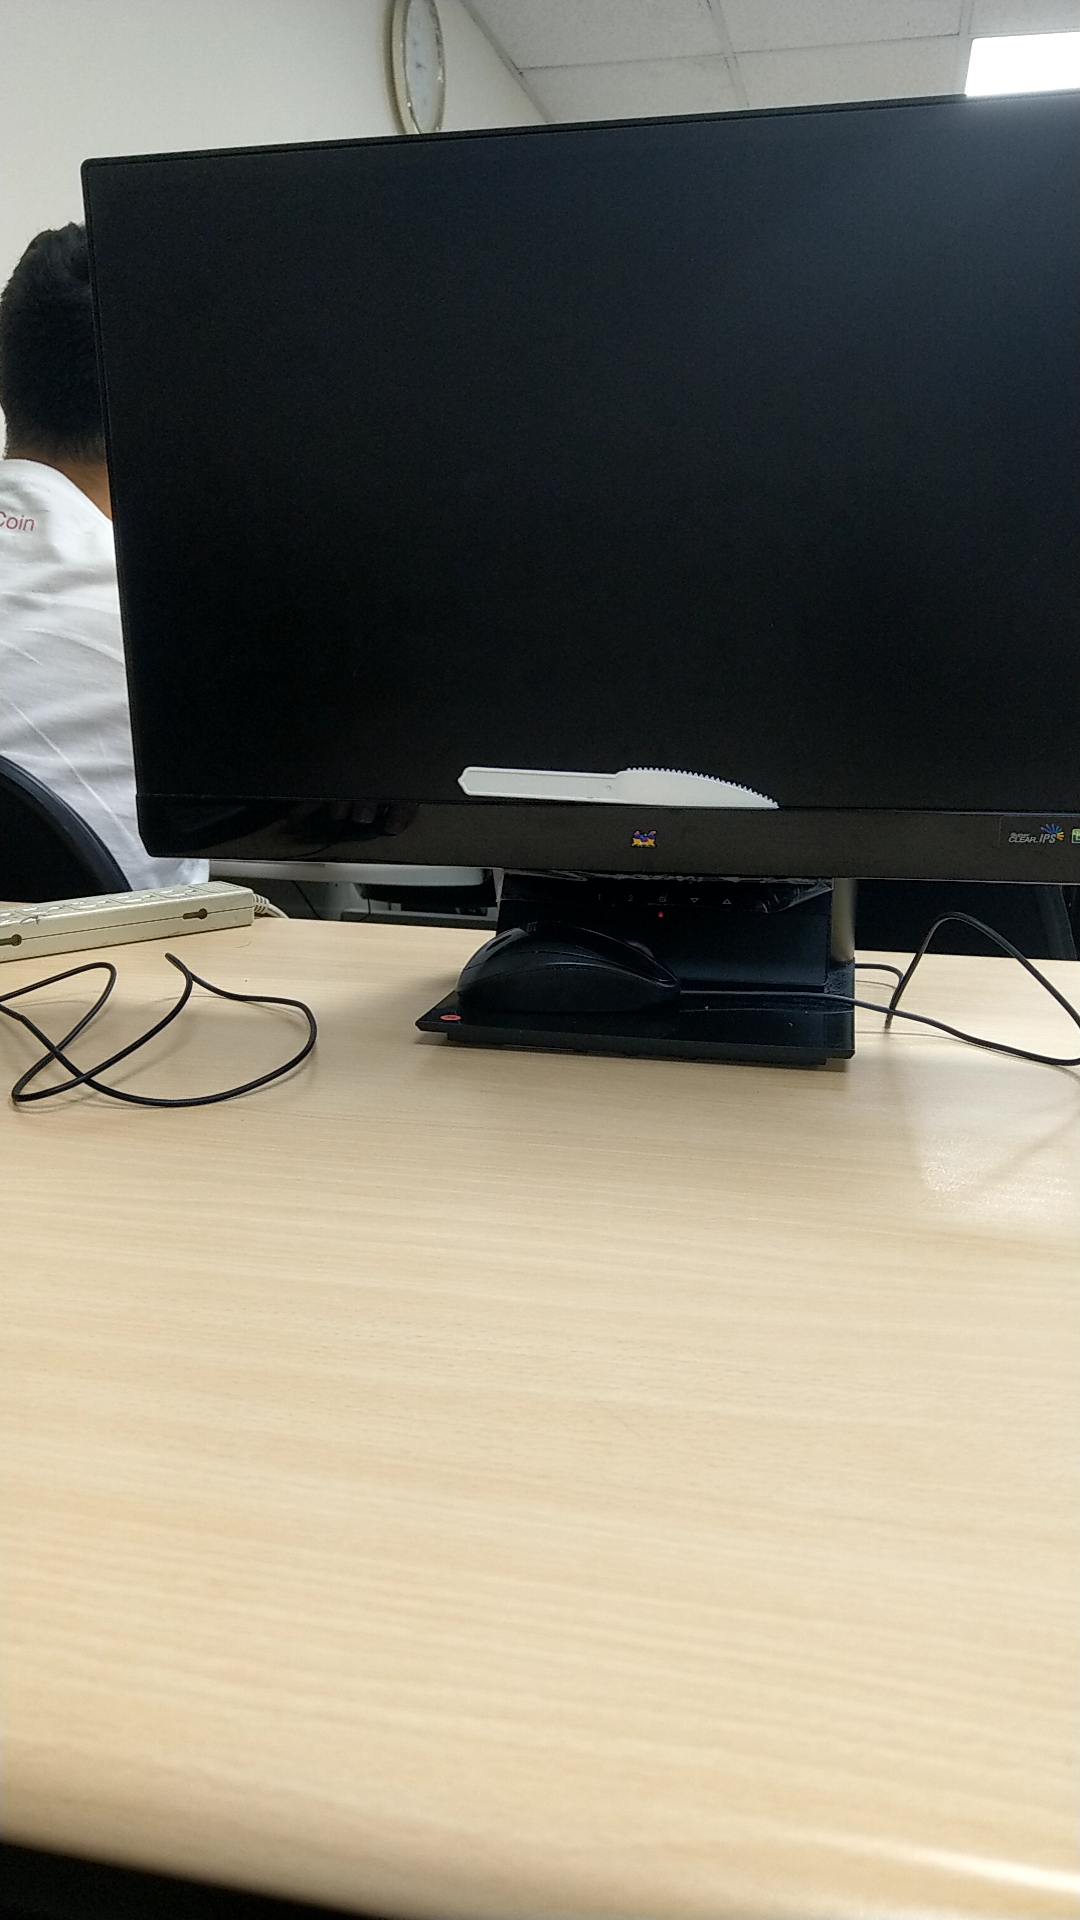knife: (430, 738, 787, 822)
